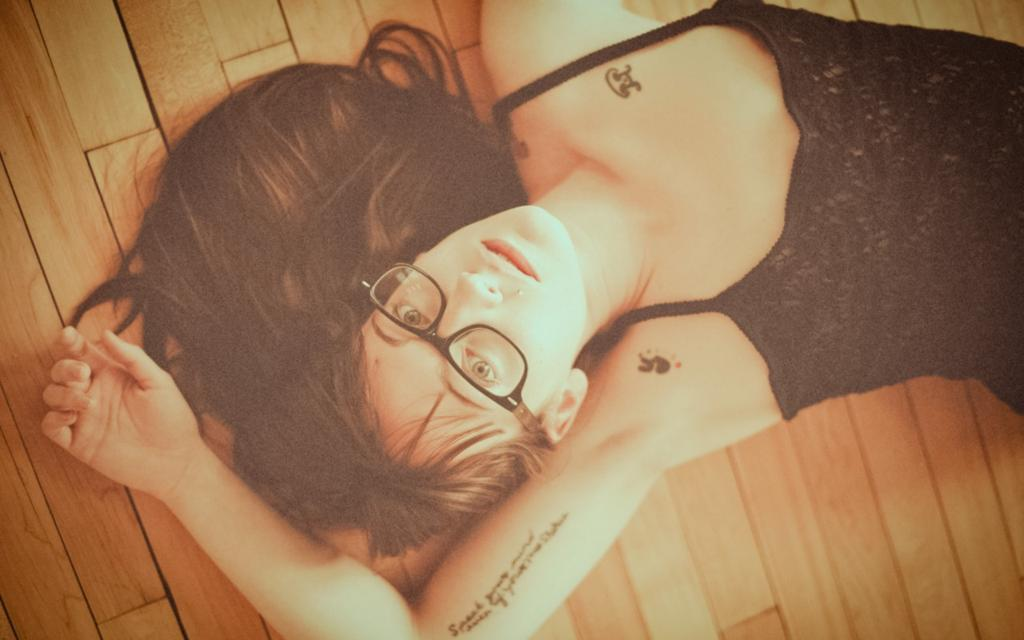face: (371, 209, 557, 449)
